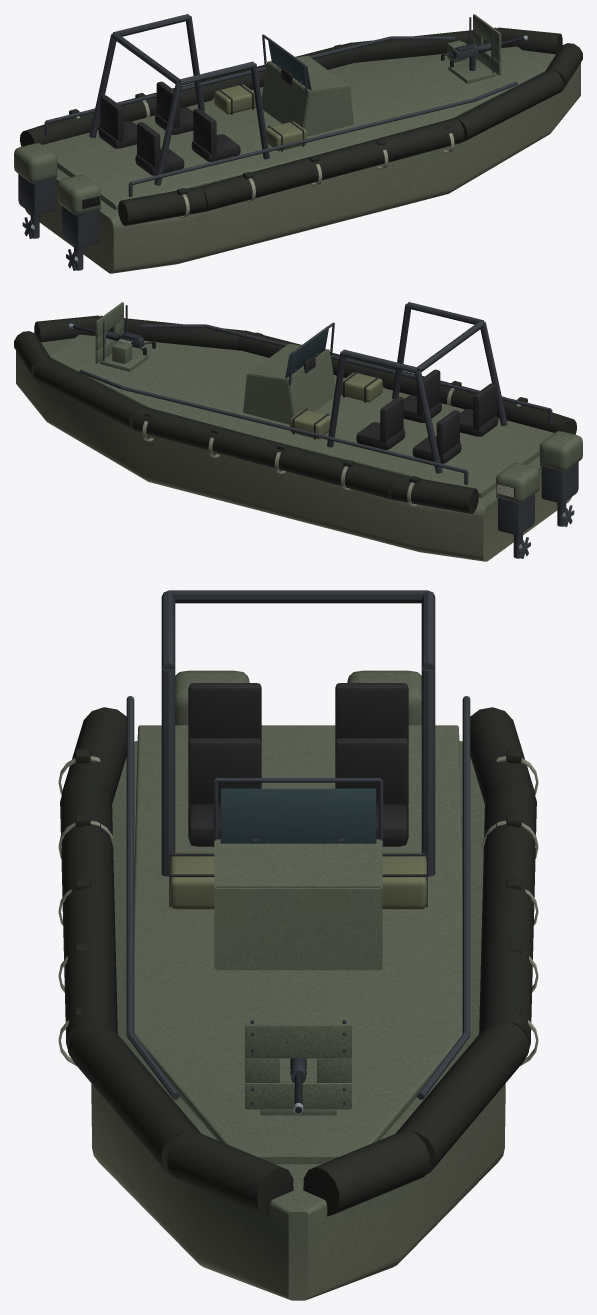
The model's file is boat.glb.
3 views of the same model, one above another, from view 1: azimuth 30°, elevation 25°; view 2: azimuth 150°, elevation 25°; view 3: azimuth 270°, elevation 25° (orthographic). The views are drawn at different scales.
Parts seen in each view (by area): view 1: body, gun_shield, gun; view 2: body, gun_shield, gun; view 3: body, gun_shield.
Part boxes in pixels (x1,y1,x2,y2): body: (14,14,582,273); gun_shield: (469,14,501,75); gun: (441,35,527,70); body: (14,302,582,561); gun_shield: (95,302,127,363); gun: (69,323,155,363); body: (58,590,538,1300); gun_shield: (245,1020,351,1109).
Bounding box in the file's own units: 8.09 × 2.53 × 3.14.
3 materials, 3 textured.
